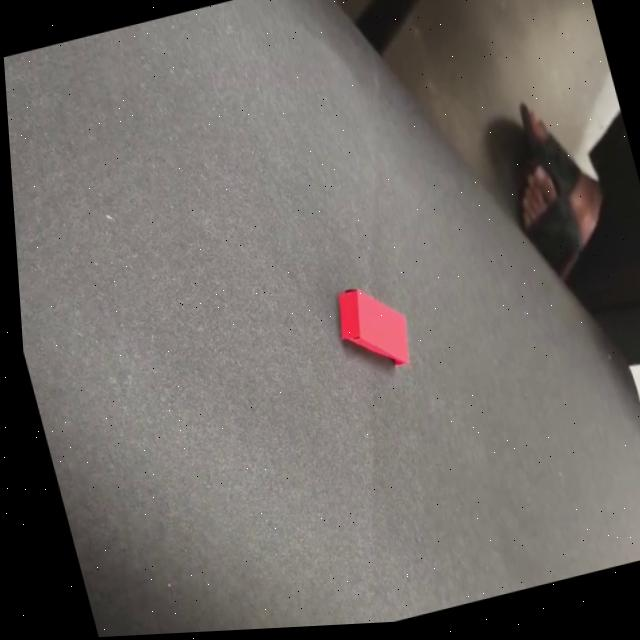red block: (329, 274, 420, 379)
